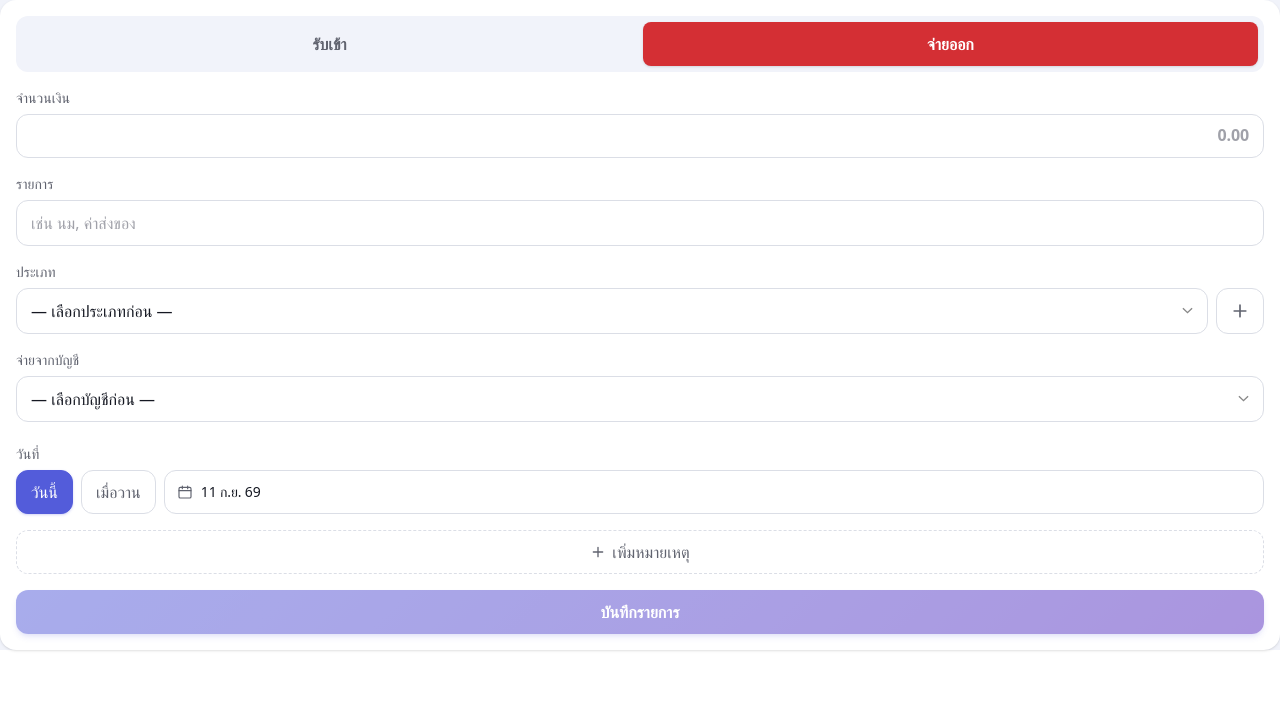
หลังบันทึกสำเร็จ ฟอร์มต้องพร้อมลงรายการถัดไป › ล้างทุกช่อง รวมประเภทกับบัญชี ไม่ใช่ล้างแค่บางช่อง
The image size is (1280, 720).
In the field labelled "จำนวนเงิน": x=640, y=136 [16,114,1264,158], type "120"
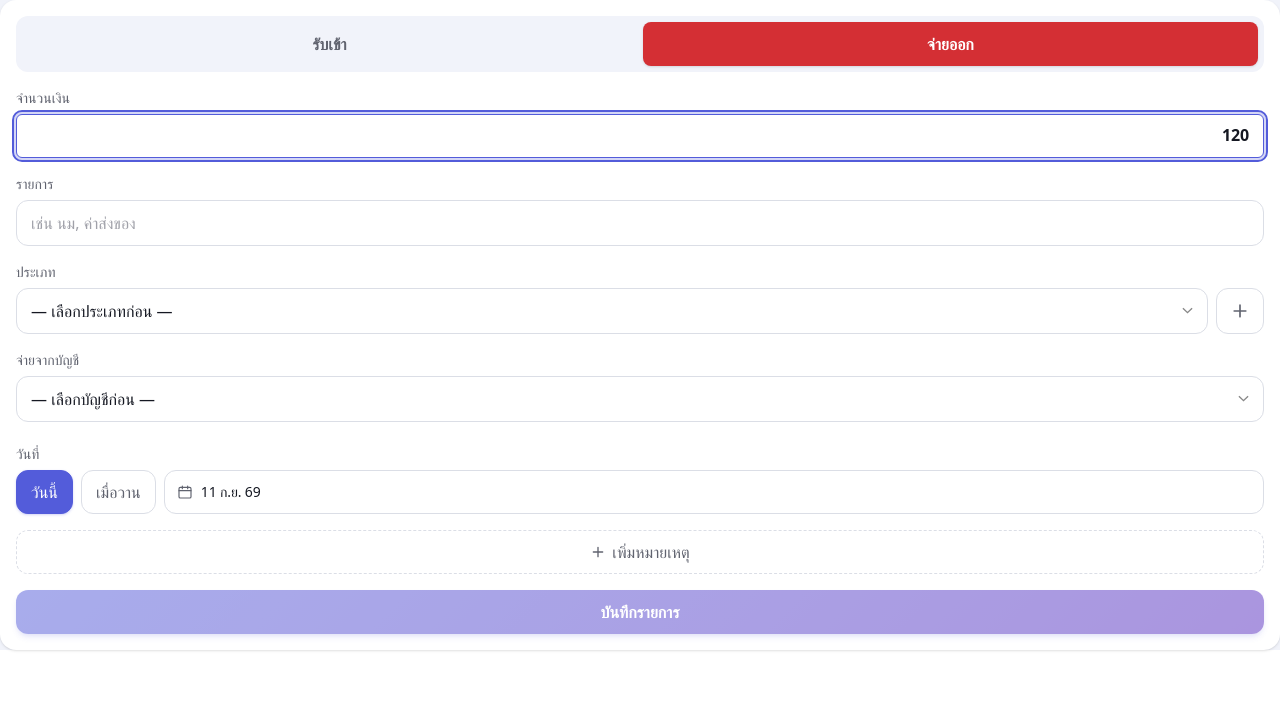
In the field labelled "รายการ": x=640, y=223 [16,200,1264,246], type "ซื้อของ"
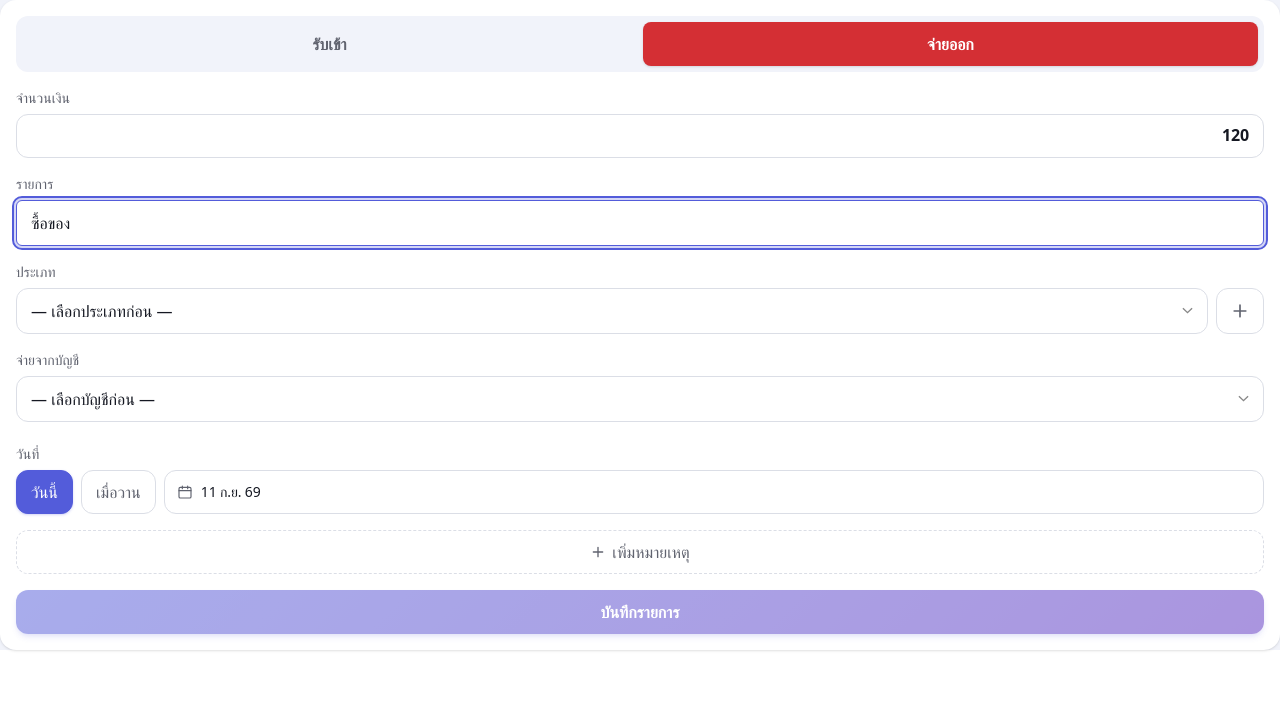
Select "ซื้อของเข้าร้าน" in the dropdown labelled "ประเภท": x=612, y=311 [16,288,1208,334]
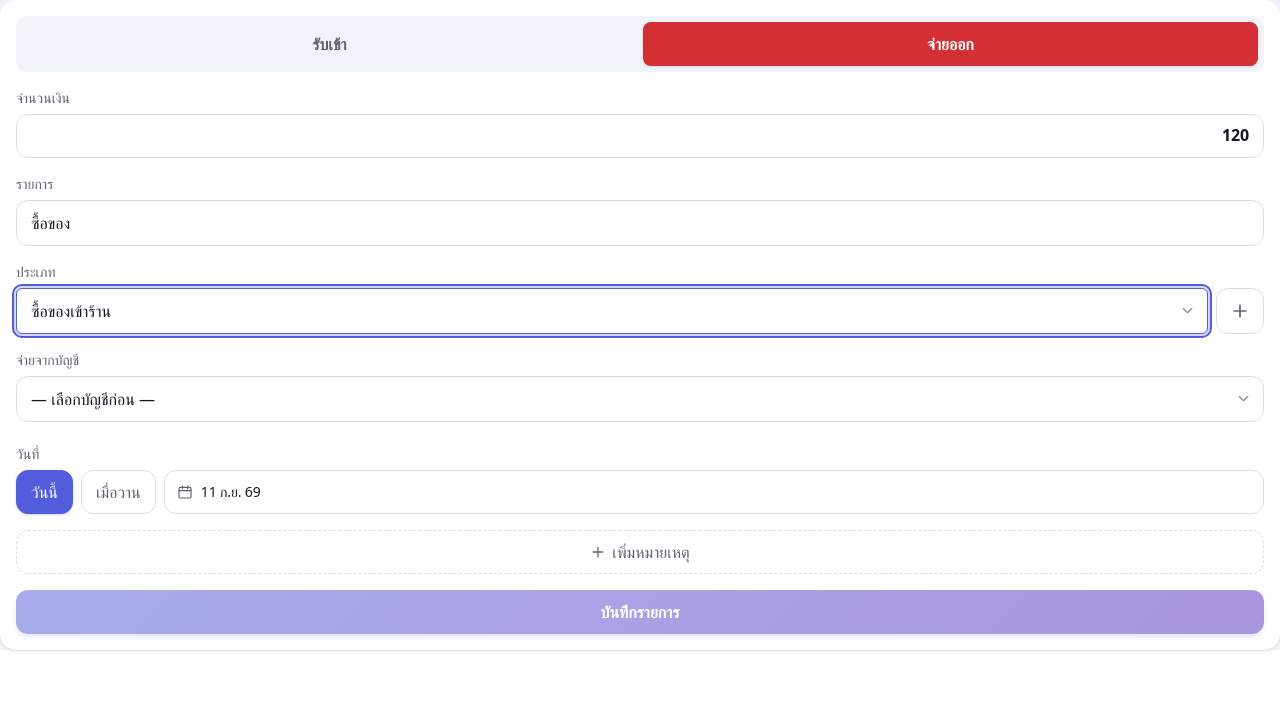
Select "เงินสด · 1,500" in the dropdown labelled "จ่ายจากบัญชี": x=640, y=399 [16,376,1264,422]
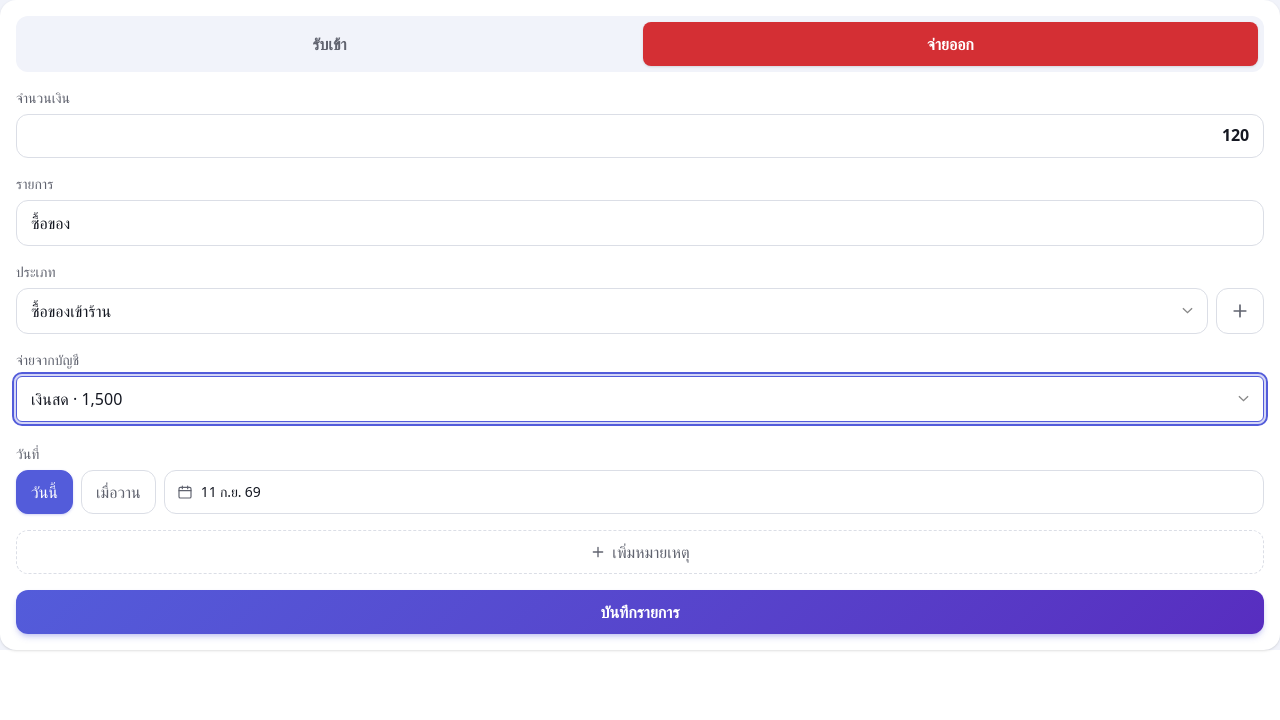
Click the button "บันทึกรายการ": x=640, y=612 [16,590,1264,634]
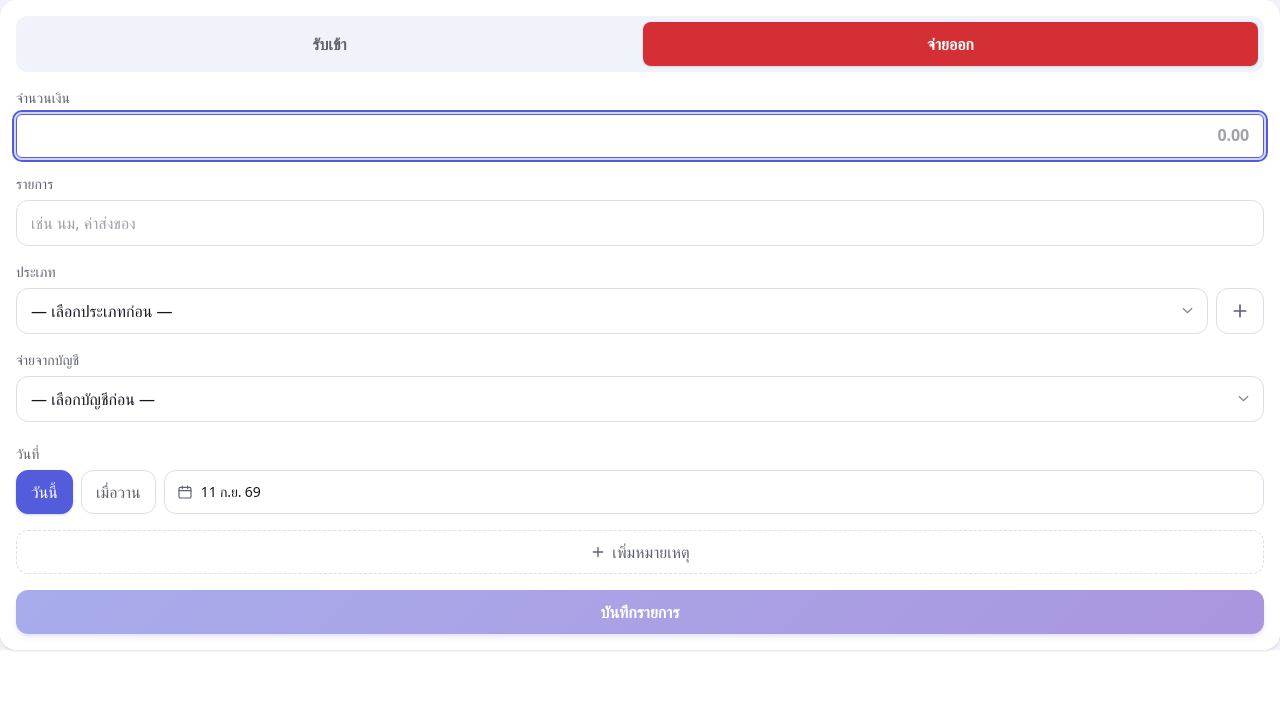
Now the field labelled "จำนวนเงิน" is empty, box [16,114,1264,158]
Now the field labelled "รายการ" is empty, box [16,200,1264,246]
Now the dropdown labelled "ประเภท" shows "— เลือกประเภทก่อน —", box [16,288,1208,334]
